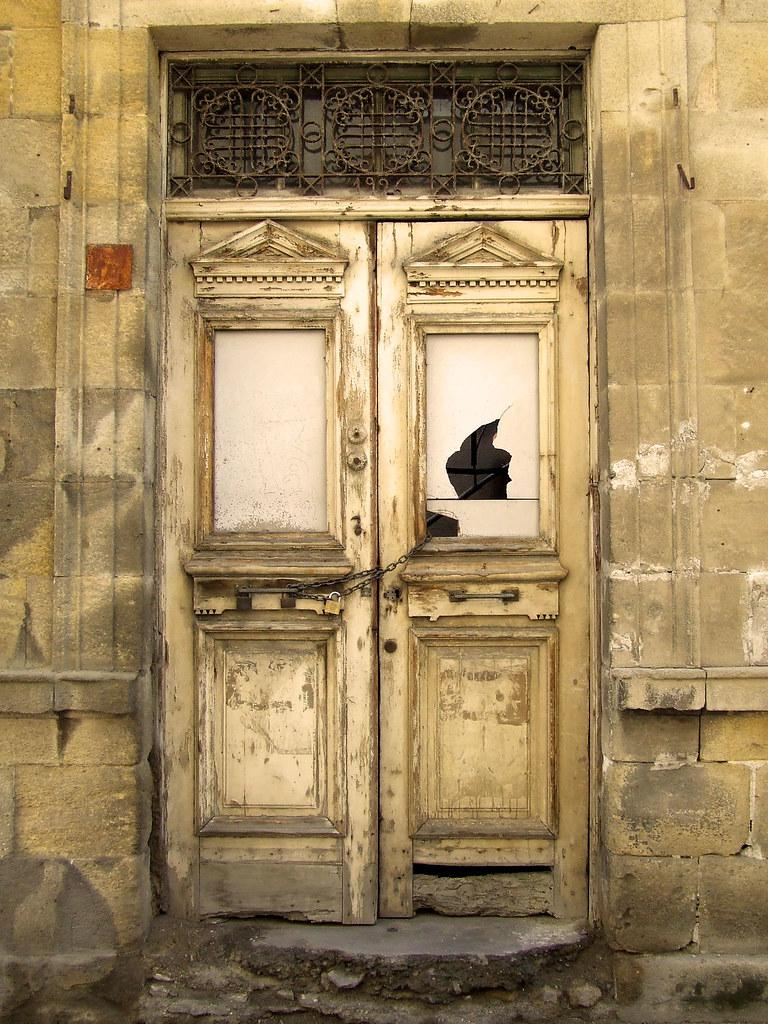door: (169, 212, 594, 926)
